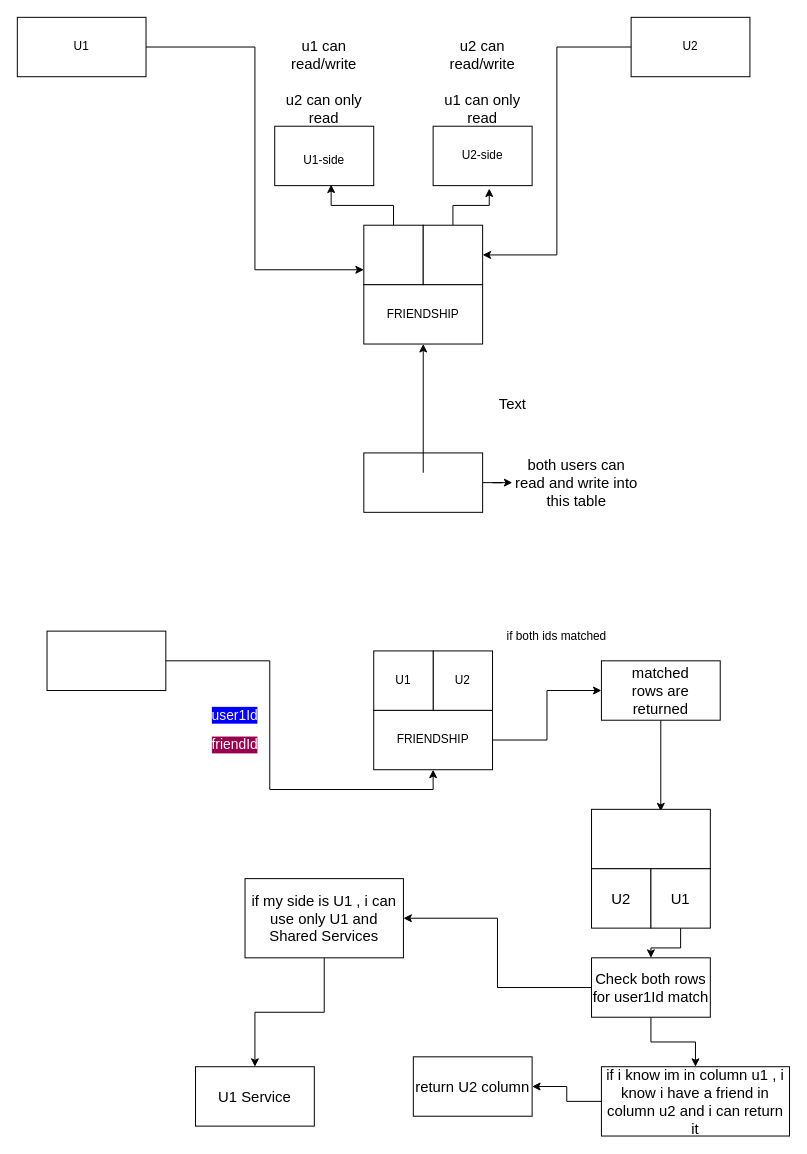
The diagram is 807 pixels wide and 1154 high, and some of its shapes have lost their labels. Here are the shapes that lost their labels. From the top down, the box of each, then its label:
(363, 224, 423, 285): User1
(422, 224, 483, 285): User2
(363, 452, 483, 512): Shared
(46, 630, 166, 691): U1 does a request
